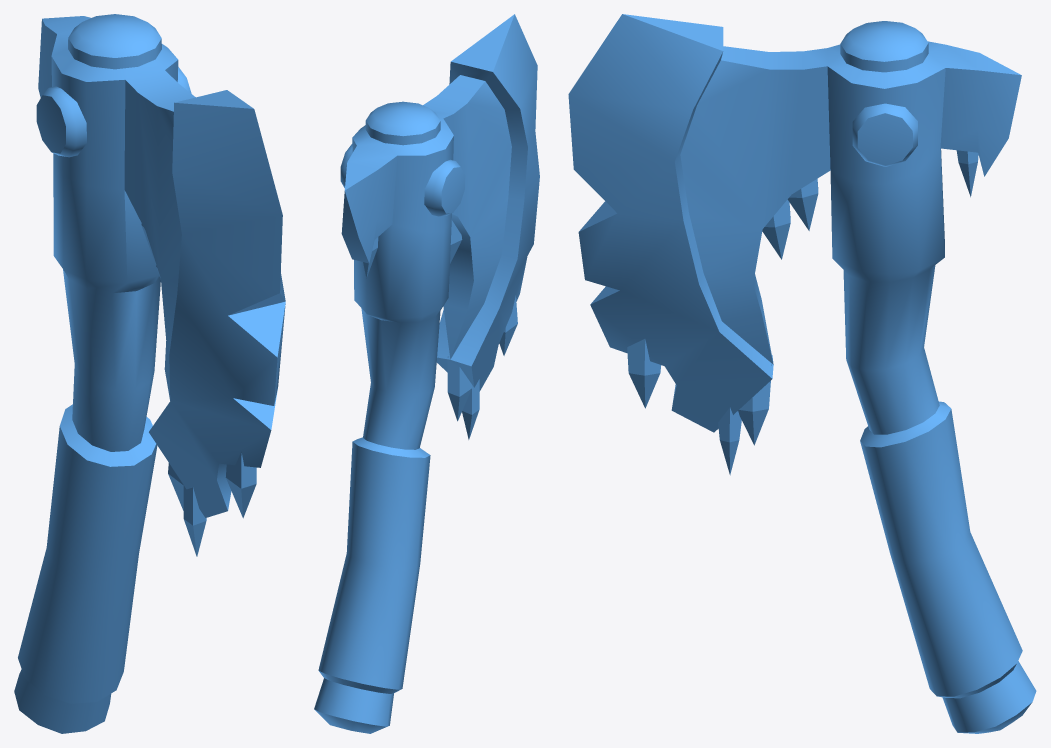
Rendered from jotunn_axe_C.fbx.
The picture shows the model from 3 angles, left to right: view 1: azimuth 30°, elevation 25°; view 2: azimuth 150°, elevation 25°; view 3: azimuth 270°, elevation 25°; orthographic projection. The views are drawn at different scales.
Parts seen in each view (by area): view 1: jotunn_axe_C; view 2: jotunn_axe_C; view 3: jotunn_axe_C.
Part boxes in pixels (x1,y1,x2,y2): jotunn_axe_C: (14,14,285,733); jotunn_axe_C: (314,14,539,733); jotunn_axe_C: (568,14,1036,733).
Bounding box in the file's own units: 0.1472 × 0.813 × 0.4845.
